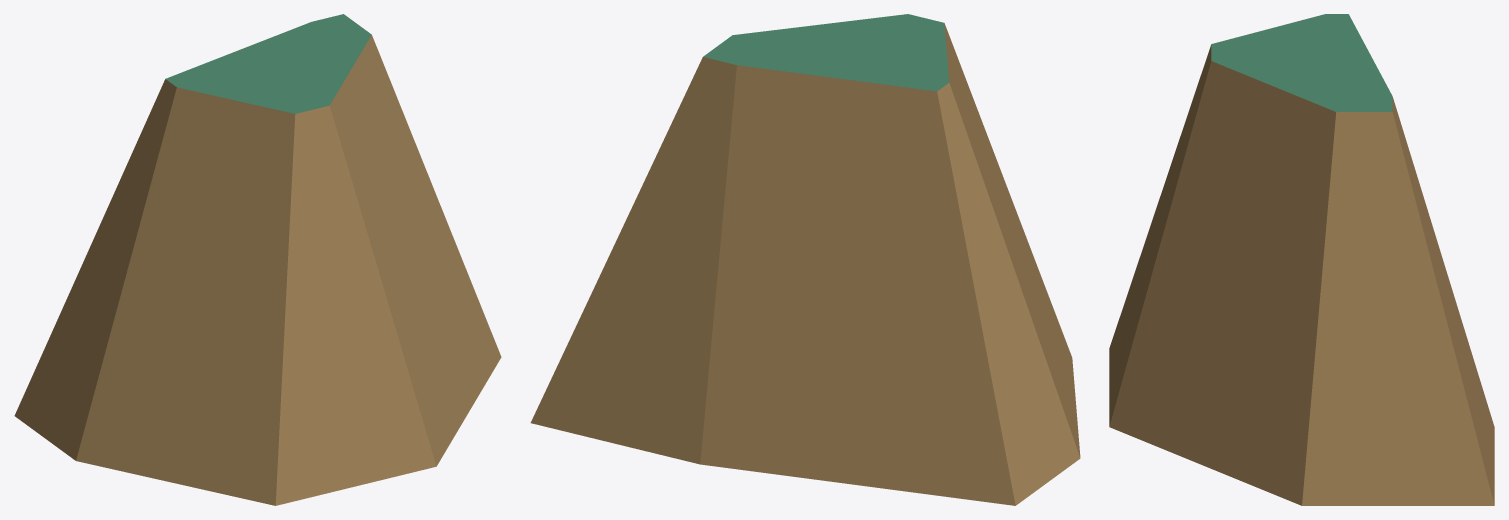
The model's file is Rock_Small_Mesa_Eroded_Moss_Grass_09.FBX.
3 views of the same model, side by side, from view 1: azimuth 30°, elevation 25°; view 2: azimuth 150°, elevation 25°; view 3: azimuth 270°, elevation 25° (orthographic). The views are drawn at different scales.
Visible parts, largest first — view 1: Rock_Small_Mesa_Eroded_Moss_Grass_09; view 2: Rock_Small_Mesa_Eroded_Moss_Grass_09; view 3: Rock_Small_Mesa_Eroded_Moss_Grass_09.
Boxes of the visible parts, box(x1,y1,x2,y2) form: Rock_Small_Mesa_Eroded_Moss_Grass_09: box(14, 14, 501, 505); Rock_Small_Mesa_Eroded_Moss_Grass_09: box(530, 14, 1080, 505); Rock_Small_Mesa_Eroded_Moss_Grass_09: box(1109, 14, 1494, 505).
Bounding box in the file's own units: 1903 × 1442 × 1487.
